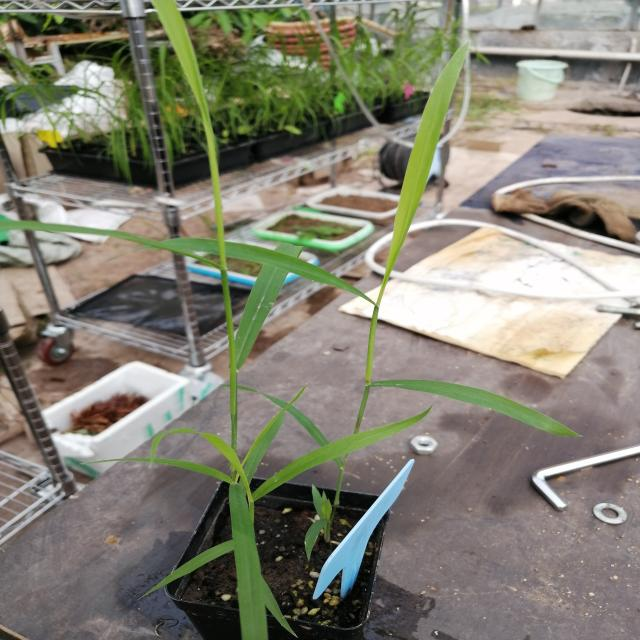crabgrass: (49, 29, 378, 604)
